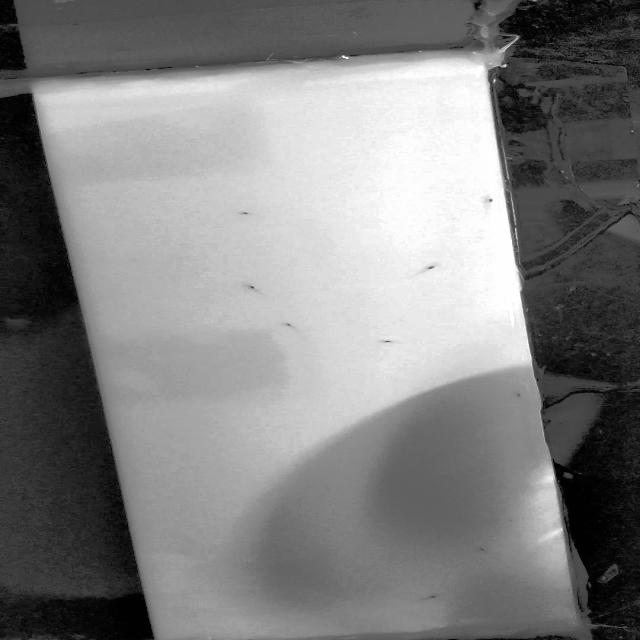shrimp: (407, 259, 451, 276), (410, 589, 450, 607), (275, 316, 303, 339), (460, 542, 495, 559), (236, 280, 269, 298), (496, 389, 533, 403), (374, 332, 402, 348), (478, 192, 498, 212), (236, 207, 260, 221)
